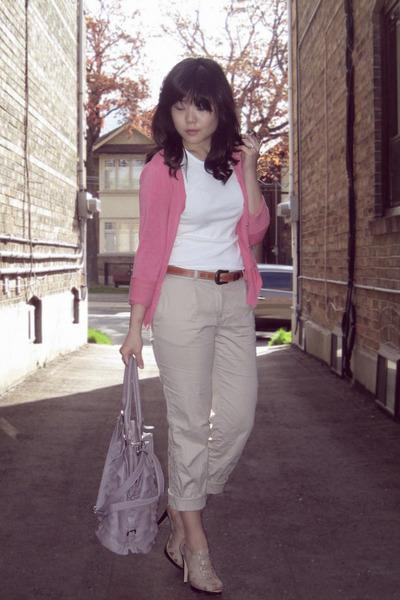bag: (94, 353, 155, 554)
jacket: (123, 150, 292, 299)
pants: (142, 275, 275, 510)
shirt: (169, 156, 243, 271)
shoe: (170, 549, 221, 587)
